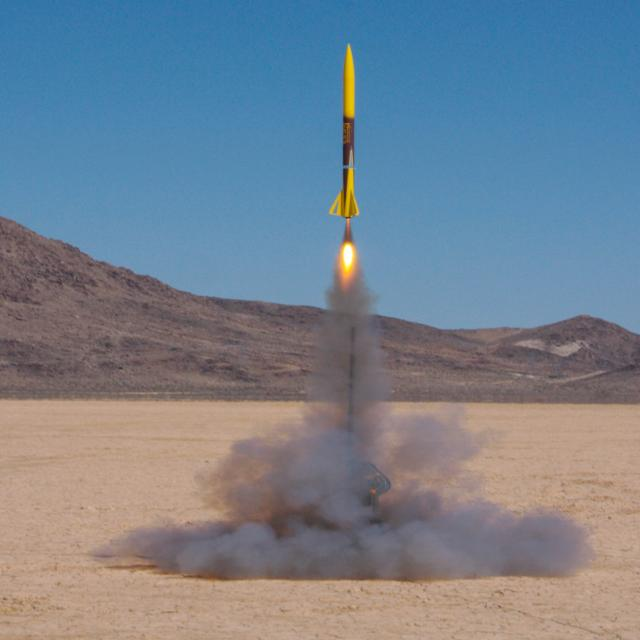Rocket: (328, 42, 362, 220)
